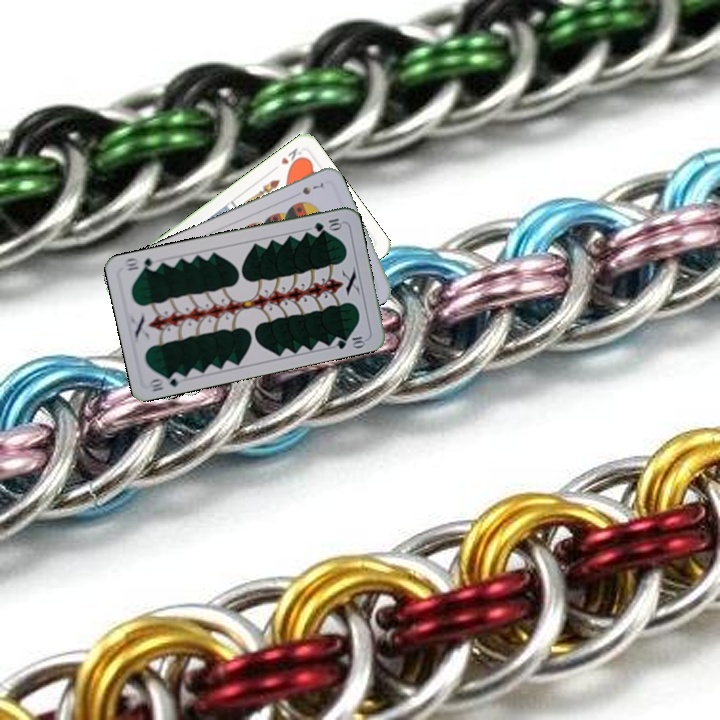G10: (145, 369, 186, 394), (310, 214, 345, 234)
HK: (277, 144, 306, 171)
S7: (298, 179, 326, 197)
